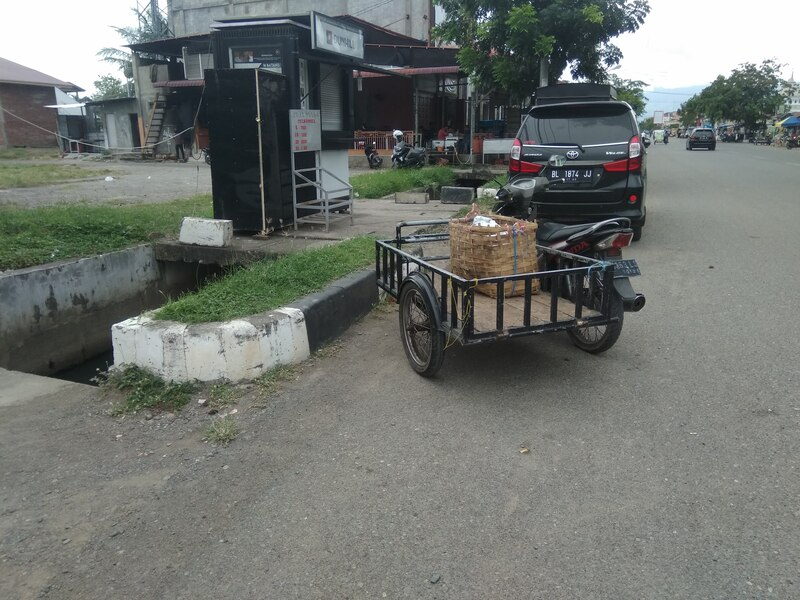becak barang: (373, 162, 652, 381)
